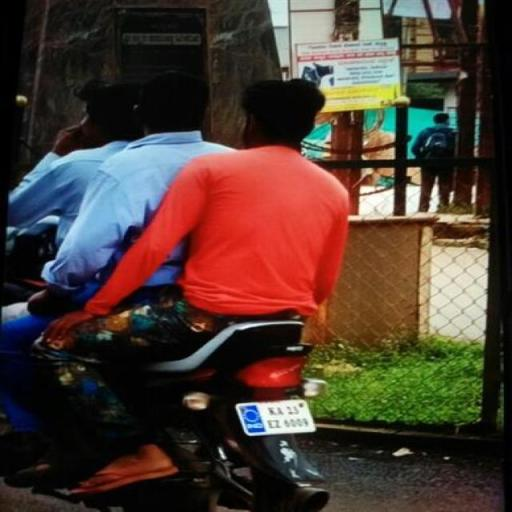tripple riding: (4, 66, 360, 378)
